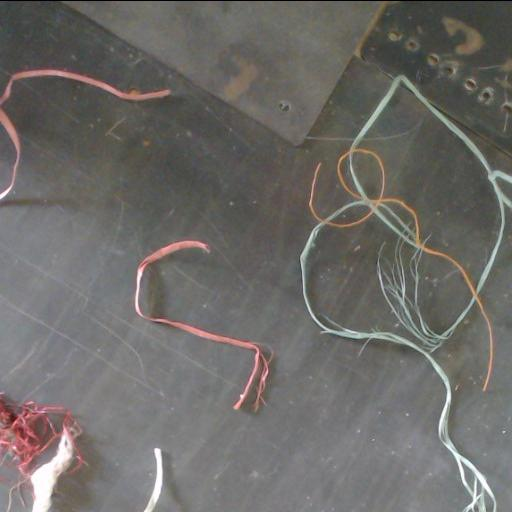conveyor belt: (0, 1, 511, 512), (362, 88, 498, 278), (434, 225, 511, 512), (309, 221, 405, 332), (421, 256, 470, 331)
thread: (300, 76, 511, 512), (134, 240, 270, 408), (0, 69, 170, 201), (0, 392, 84, 512), (142, 447, 162, 512)
